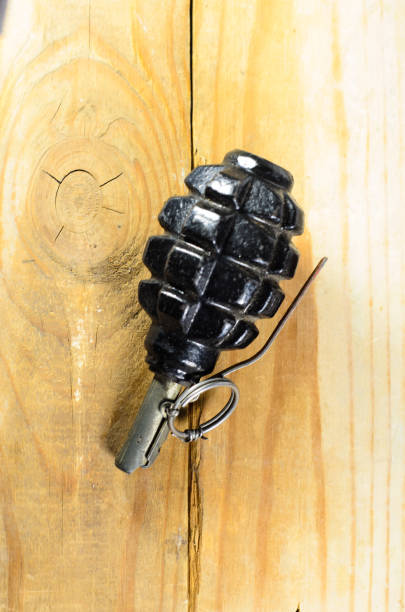e1: (114, 149, 326, 480)
